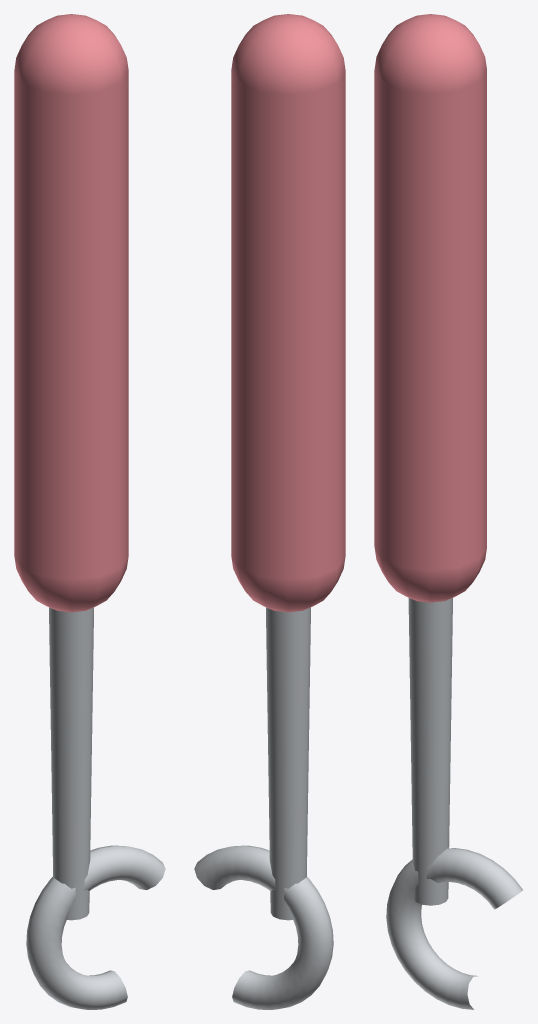
Rendered from crochet-hook.glb.
3 renders of one model, left to right at view 1: azimuth 30°, elevation 25°; view 2: azimuth 150°, elevation 25°; view 3: azimuth 330°, elevation 25°, orthographic.
Parts seen in each view (by area): view 1: Handle, Shaft, Tip; view 2: Handle, Shaft, Tip; view 3: Handle, Shaft, Tip.
Part boxes in pixels (x1=…): Handle: x1=14, y1=14, x2=128, y2=612; Shaft: x1=49, y1=607, x2=93, y2=920; Tip: x1=26, y1=845, x2=165, y2=1009; Handle: x1=231, y1=14, x2=345, y2=612; Shaft: x1=266, y1=607, x2=310, y2=920; Tip: x1=194, y1=845, x2=333, y2=1009; Handle: x1=374, y1=14, x2=486, y2=602; Shaft: x1=408, y1=598, x2=452, y2=905; Tip: x1=386, y1=848, x2=522, y2=1009.
Size of the model in its own units: 0.1278 by 0.8639 by 0.09.
